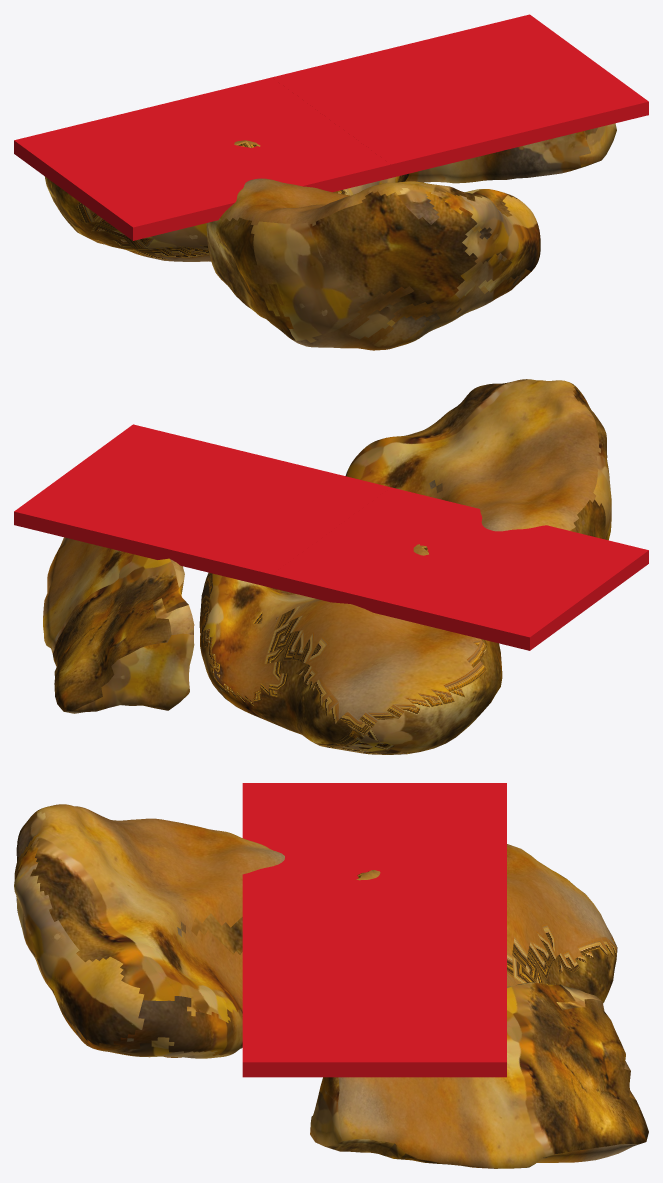
Rendered from objetosmundo2.fbx.
3 renders of one model, top to bottom at view 1: azimuth 30°, elevation 25°; view 2: azimuth 150°, elevation 25°; view 3: azimuth 270°, elevation 25°, orthographic. The views are drawn at different scales.
Visible parts, largest first — view 1: rock.005, Cube.044, Cube.046, kamien_low.009, rock.006; view 2: rock.006, Cube.046, Cube.044, rock.005, kamien_low.009; view 3: rock.005, Cube.044, kamien_low.009, Cube.046, rock.006.
Boxes of the visible parts, x1,y1,x2,y2 form: rock.005: (206, 178, 540, 350); Cube.044: (272, 14, 648, 177); Cube.046: (14, 77, 390, 240); kamien_low.009: (405, 123, 616, 183); rock.006: (44, 140, 409, 261); rock.006: (199, 544, 502, 754); Cube.046: (272, 487, 648, 650); Cube.044: (14, 424, 390, 587); rock.005: (345, 379, 611, 540); kamien_low.009: (43, 537, 194, 713); rock.005: (14, 804, 284, 1058); Cube.044: (242, 922, 506, 1077); kamien_low.009: (310, 982, 648, 1168); Cube.046: (242, 783, 506, 922); rock.006: (356, 844, 617, 1003).
Bounding box in the file's own units: 1154 × 456 × 1082.
3 materials, 2 textured.
